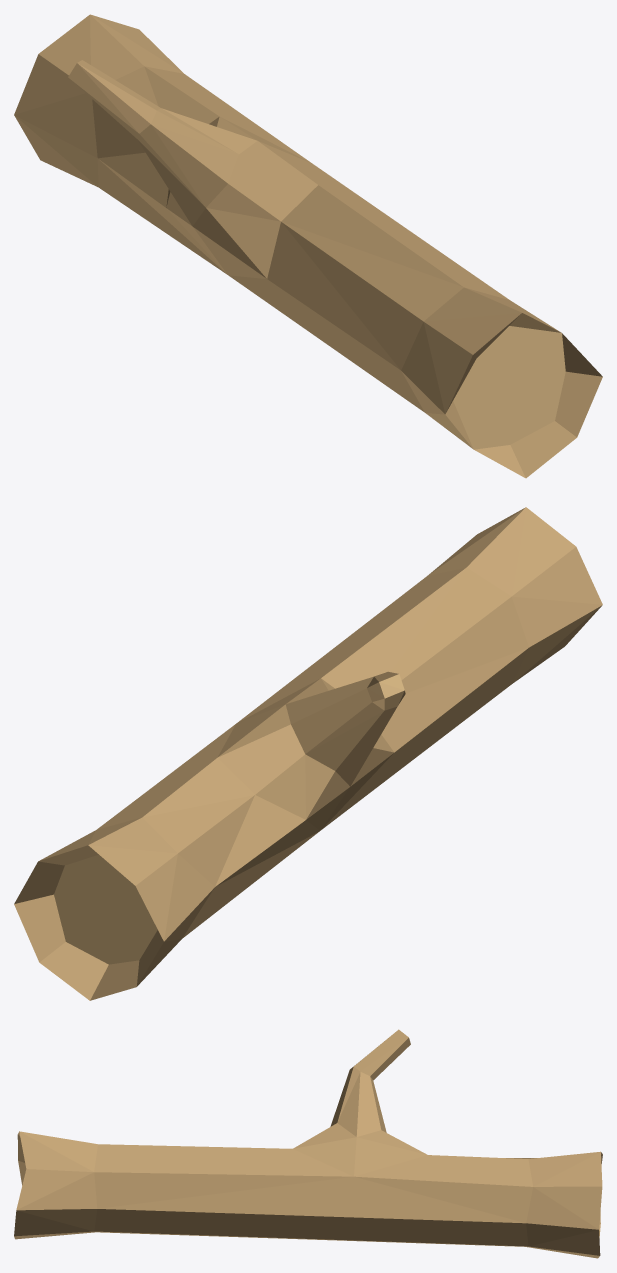
The model's file is trunk8.fbx.
3 renders of one model, top to bottom at view 1: azimuth 30°, elevation 25°; view 2: azimuth 150°, elevation 25°; view 3: azimuth 270°, elevation 25°, orthographic. The views are drawn at different scales.
Parts seen in each view (by area): view 1: trunk8; view 2: trunk8; view 3: trunk8.
Part boxes in pixels (left/top/right/bottom): trunk8: left=14, top=14, right=602, bottom=478; trunk8: left=14, top=507, right=602, bottom=1000; trunk8: left=14, top=1029, right=602, bottom=1258.
Size of the model in its own units: 81.74 by 82.69 by 252.
